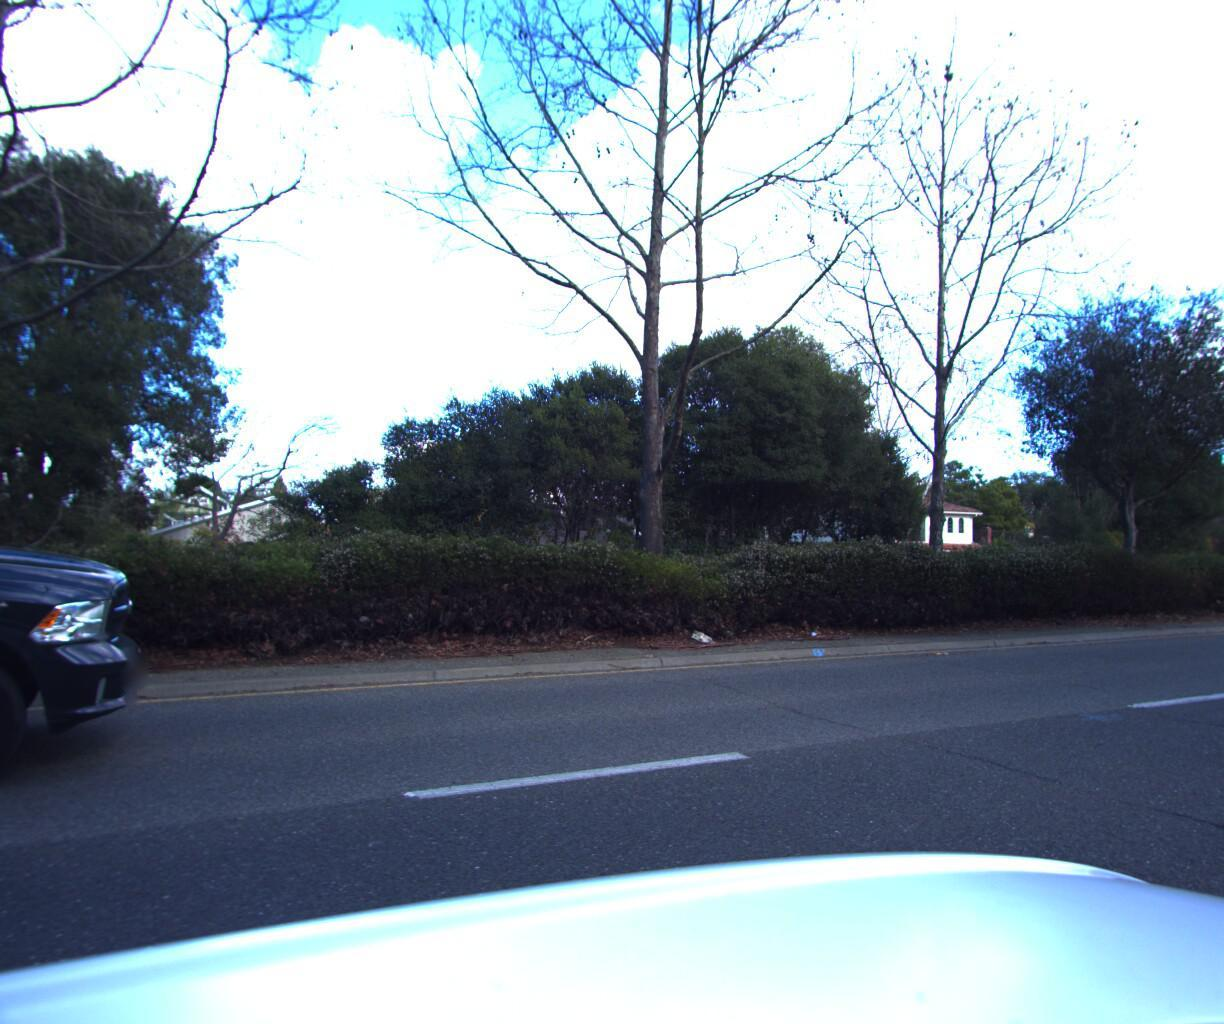car: (0, 318, 173, 1021)
